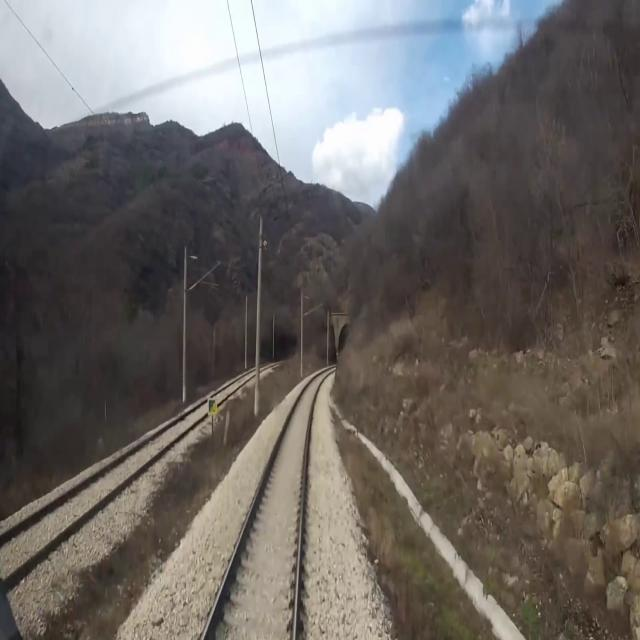rail-track: (0, 403, 207, 578), (205, 375, 323, 639), (216, 380, 241, 400)
